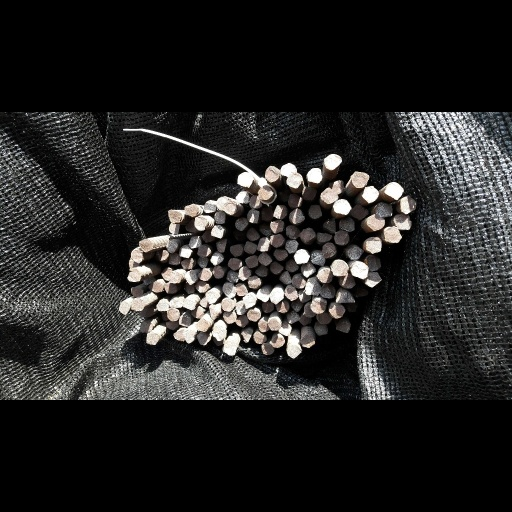dipstick: (384, 123, 403, 156), (349, 104, 369, 135), (323, 72, 342, 103), (350, 264, 368, 296), (330, 262, 348, 293), (366, 182, 385, 211), (350, 164, 369, 192), (336, 313, 355, 341), (362, 130, 379, 161), (394, 179, 411, 210), (399, 148, 416, 179), (304, 296, 321, 327), (333, 154, 351, 183), (364, 283, 382, 312), (376, 160, 394, 188), (384, 203, 401, 232), (365, 222, 382, 251), (264, 96, 280, 125), (307, 98, 323, 127), (317, 276, 333, 305), (365, 254, 381, 283), (321, 134, 338, 161), (293, 244, 310, 271), (300, 267, 317, 294), (300, 205, 315, 234), (334, 210, 350, 237), (346, 238, 364, 262), (338, 288, 356, 312), (329, 340, 345, 367), (289, 171, 304, 199), (126, 277, 142, 303), (339, 186, 355, 212), (321, 232, 336, 259), (291, 287, 306, 314), (286, 109, 301, 135), (320, 306, 335, 332), (310, 332, 325, 358), (211, 381, 227, 405), (226, 259, 242, 283), (310, 249, 326, 273), (243, 321, 257, 348), (284, 309, 298, 336), (323, 187, 336, 216), (286, 413, 301, 438), (257, 248, 272, 273), (302, 132, 317, 157), (308, 164, 323, 189), (167, 174, 183, 197), (328, 121, 344, 144), (208, 342, 222, 368), (336, 368, 350, 394), (194, 366, 209, 390), (252, 389, 267, 413), (258, 131, 273, 155), (238, 107, 252, 132), (194, 185, 208, 210), (301, 395, 315, 420), (221, 304, 235, 329), (284, 226, 298, 251), (281, 89, 296, 112), (268, 192, 283, 215), (285, 201, 300, 224), (273, 241, 288, 264), (246, 173, 259, 199), (197, 392, 211, 416), (226, 280, 240, 304), (244, 253, 258, 277), (288, 144, 302, 168), (273, 166, 287, 190), (269, 265, 283, 289), (210, 248, 223, 273), (241, 384, 253, 411), (249, 146, 261, 173), (156, 332, 170, 355), (222, 353, 236, 376), (247, 290, 261, 313), (233, 187, 247, 210), (260, 169, 274, 192), (269, 217, 283, 240), (316, 212, 332, 232), (316, 356, 332, 376), (229, 235, 244, 256), (214, 176, 227, 200), (206, 316, 218, 342), (234, 336, 247, 360), (235, 304, 248, 328), (244, 229, 257, 253), (138, 227, 152, 249), (258, 197, 272, 219), (224, 159, 236, 184), (211, 200, 223, 225), (131, 329, 143, 354), (236, 360, 248, 385), (238, 276, 250, 301), (303, 341, 315, 366), (203, 157, 216, 180), (216, 152, 229, 175), (130, 245, 143, 268), (184, 281, 197, 304), (198, 277, 211, 300), (190, 344, 203, 367), (223, 410, 236, 433), (221, 331, 234, 354), (247, 351, 260, 374), (286, 354, 299, 377), (276, 335, 289, 358), (257, 314, 270, 337), (279, 283, 292, 306), (235, 141, 249, 162), (149, 299, 163, 320), (182, 331, 196, 352), (271, 397, 285, 418), (260, 336, 274, 357), (245, 207, 259, 228), (354, 308, 368, 329), (215, 224, 227, 248), (212, 272, 224, 296), (173, 384, 185, 408), (258, 223, 270, 247), (189, 220, 202, 242), (170, 328, 183, 350), (183, 384, 194, 410), (195, 300, 209, 320), (315, 378, 329, 398), (185, 163, 197, 186), (167, 348, 179, 371), (262, 409, 274, 432), (276, 136, 289, 157), (285, 262, 298, 283), (164, 371, 179, 389), (154, 246, 168, 265), (197, 238, 211, 257), (145, 392, 157, 414), (258, 368, 269, 392), (269, 366, 280, 390), (270, 319, 282, 341), (290, 334, 302, 356), (180, 260, 193, 280), (164, 303, 177, 323), (139, 372, 152, 392), (232, 208, 245, 228), (185, 192, 196, 215), (166, 227, 177, 250), (179, 358, 190, 381), (179, 240, 192, 259), (168, 251, 179, 273), (169, 283, 180, 305), (201, 211, 213, 231), (161, 276, 171, 300), (279, 378, 291, 398), (255, 272, 267, 292), (298, 316, 310, 336), (299, 360, 311, 380), (212, 399, 226, 416), (130, 310, 143, 328), (184, 301, 195, 322), (119, 337, 129, 360), (138, 350, 154, 364), (168, 195, 179, 215), (196, 257, 207, 277), (347, 338, 358, 358), (200, 326, 208, 350), (159, 353, 168, 372), (127, 261, 135, 278)
